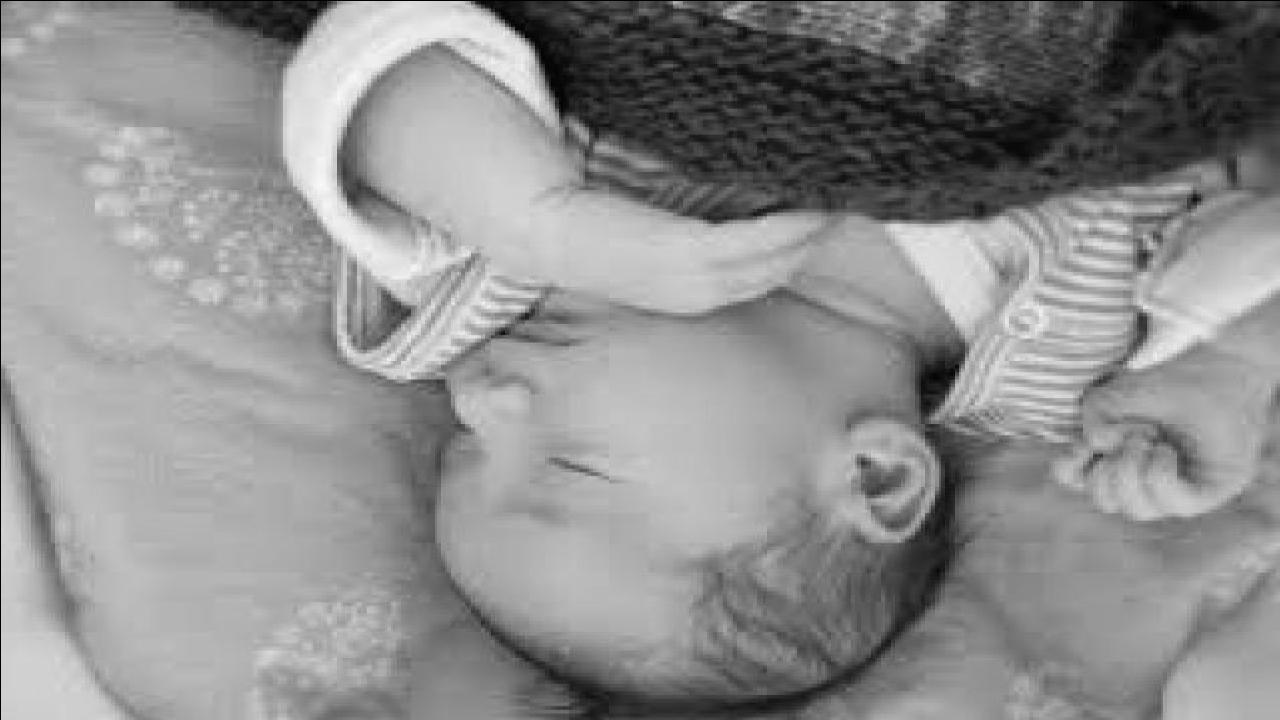hand: (518, 189, 838, 314), (1054, 352, 1248, 532)
